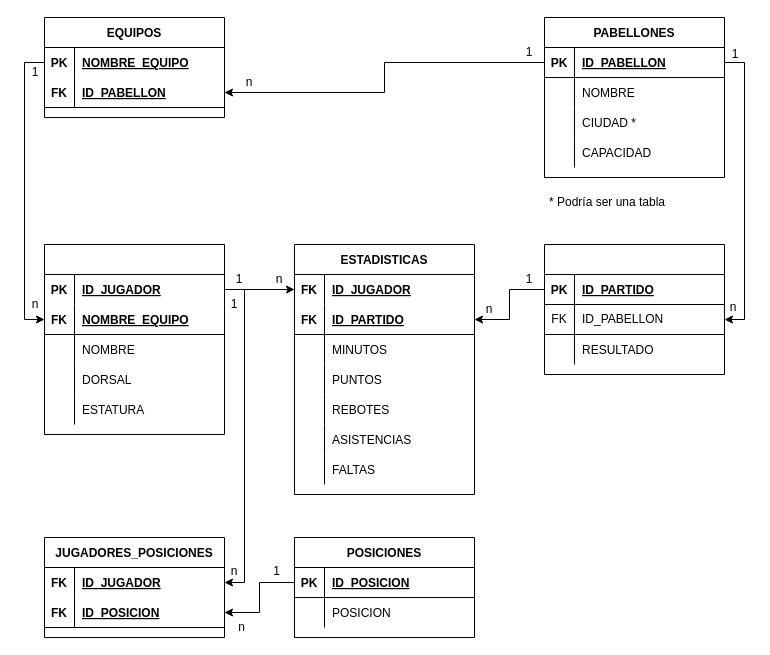
Image size: 770x655. Some labels were removed from this diagram. The box of each missing label's shape, as (x1, y1, x2, y2) in pixels:
JUGADORES: (44, 244, 224, 434)
PARTIDOS: (544, 244, 724, 374)
